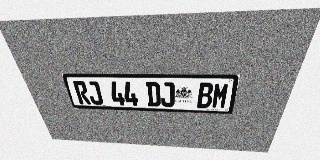4: (108, 81, 126, 106), (122, 82, 139, 106)
B: (197, 82, 214, 108)
D: (146, 82, 161, 107)
J: (85, 81, 104, 105), (160, 82, 174, 107)
M: (211, 83, 230, 109)
R: (72, 81, 91, 104)
